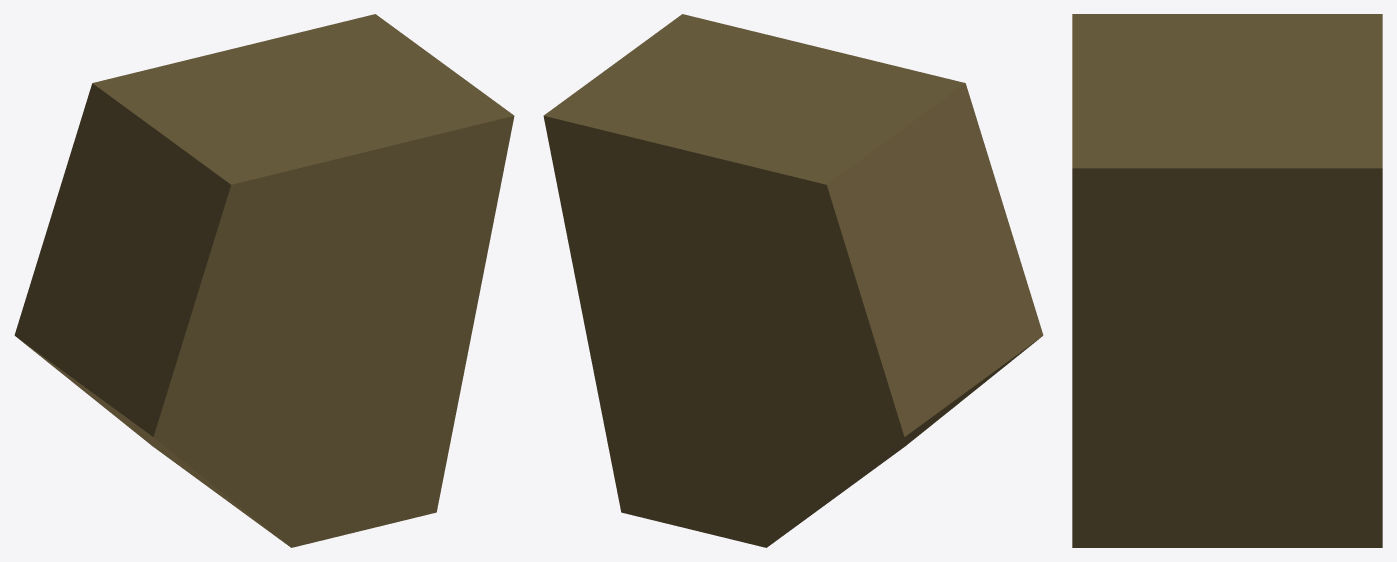
The model's file is chart_obstacle_070.obj.
3 renders of one model, left to right at view 1: azimuth 30°, elevation 25°; view 2: azimuth 150°, elevation 25°; view 3: azimuth 270°, elevation 25°, orthographic. The views are drawn at different scales.
Visible parts, largest first — view 1: chart_obstacle_070; view 2: chart_obstacle_070; view 3: chart_obstacle_070.
Boxes of the visible parts, left/top/right/bottom form: chart_obstacle_070: left=14, top=14, right=514, bottom=547; chart_obstacle_070: left=543, top=14, right=1043, bottom=547; chart_obstacle_070: left=1072, top=14, right=1382, bottom=547.
Bounding box in the file's own units: 12 × 12 × 8.
